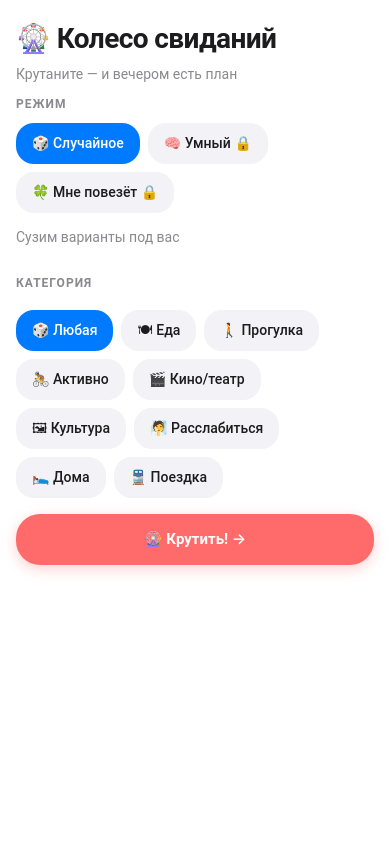
Scenario: DateWheel — cluster 13 stale-idea timer fix › failed spin shows an inline error instead of failing silently
Step 1. Click the button "🎡 Крутить! →" → {"x": 195, "y": 539}, box [16, 514, 374, 564]
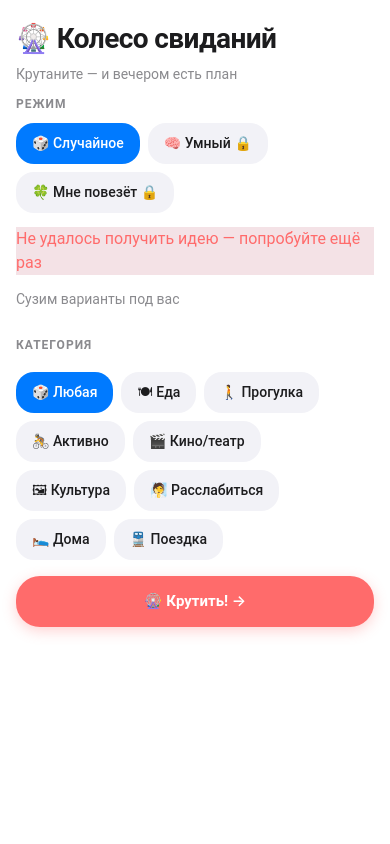
Check: the button "🎲 Любая" is shown, box [16, 372, 114, 413]
Check: the text "Не удалось получить идею — попробуйте ещё раз" is shown, box [16, 227, 374, 275]
